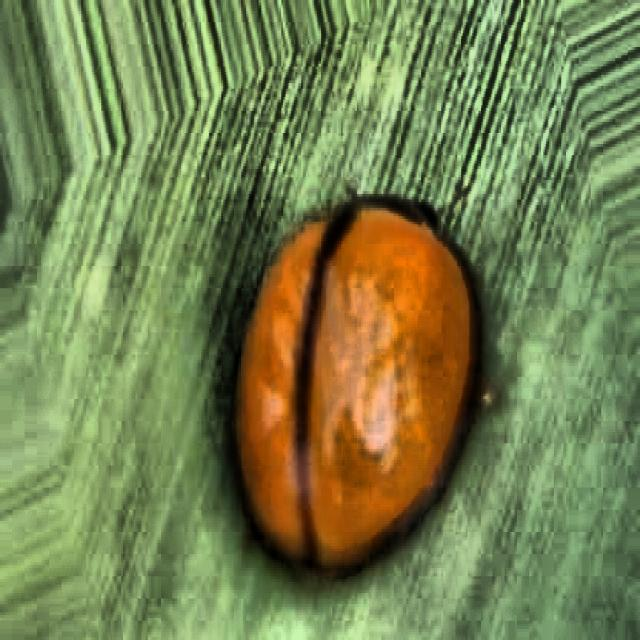Ladybug: (163, 91, 552, 640)
